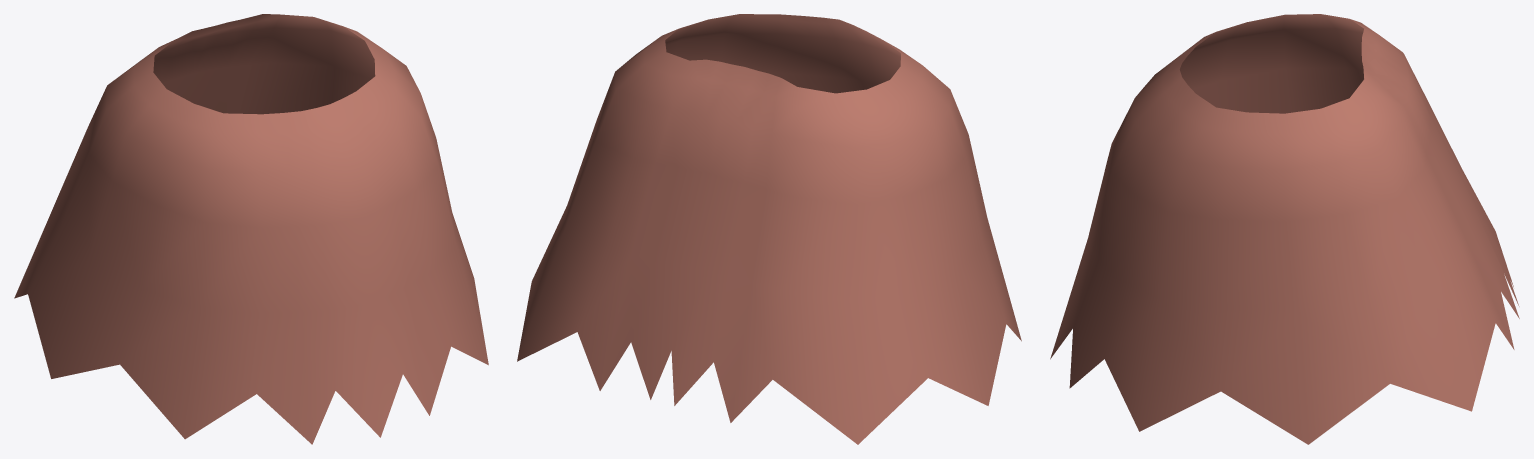
File: Fabric2.dae
3 renders of one model, left to right at view 1: azimuth 30°, elevation 25°; view 2: azimuth 150°, elevation 25°; view 3: azimuth 270°, elevation 25°, orthographic. The views are drawn at different scales.
Parts seen in each view (by area): view 1: Cube_006; view 2: Cube_006; view 3: Cube_006.
Boxes of the visible parts, x1,y1,x2,y2 form: Cube_006: [14, 14, 488, 444]; Cube_006: [517, 14, 1021, 444]; Cube_006: [1050, 14, 1519, 444].
Size of the model in its own units: 0.6317 by 0.6186 by 0.4523.
